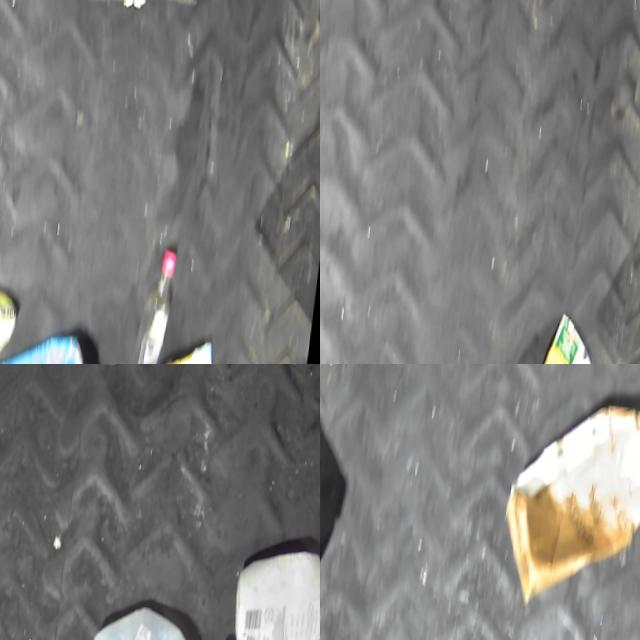can: (540, 300, 605, 364), (158, 327, 229, 364), (0, 279, 29, 364)
milk_jug: (77, 592, 221, 640)
non_white_jug: (0, 319, 112, 364)
plastic_bottle: (139, 238, 185, 364)
